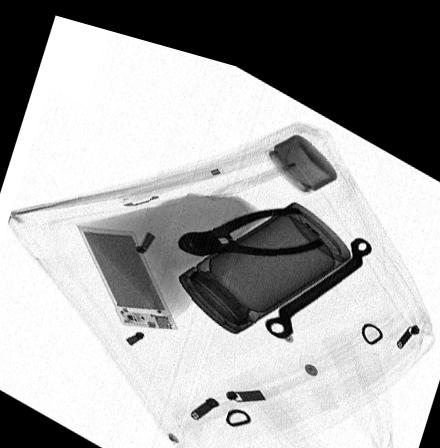Pliers: (177, 191, 327, 246)
Powerbank: (76, 221, 178, 321)
Wrench: (263, 216, 372, 323)
